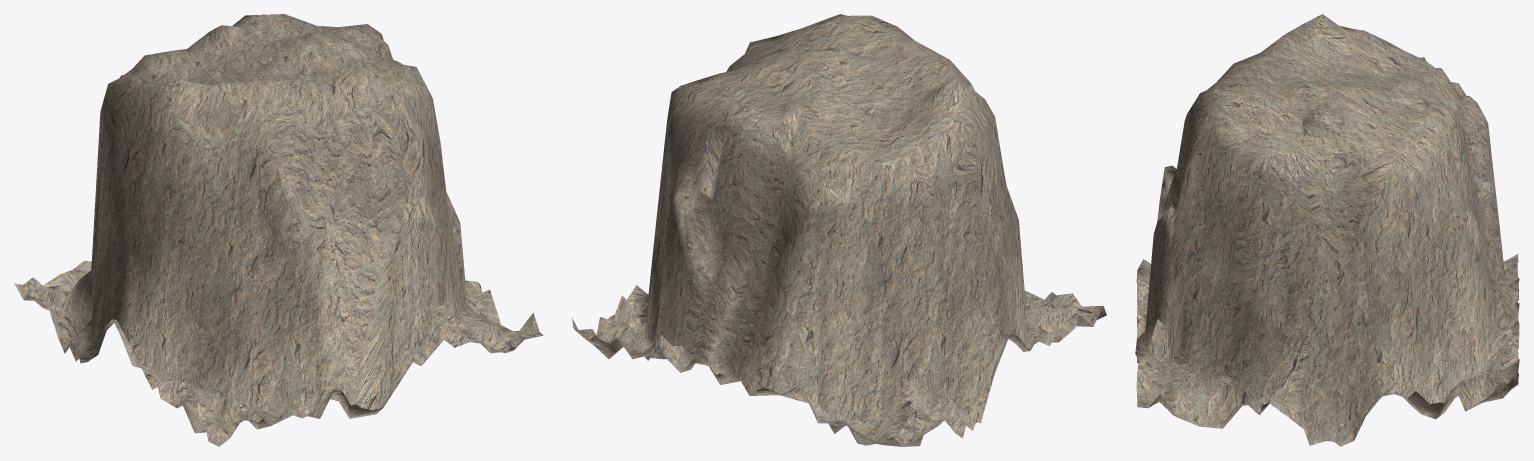
The model's file is cliff.fbx.
The picture shows the model from 3 angles, left to right: view 1: azimuth 30°, elevation 25°; view 2: azimuth 150°, elevation 25°; view 3: azimuth 270°, elevation 25°; orthographic projection. The views are drawn at different scales.
Visible parts, largest first — view 1: Plane; view 2: Plane; view 3: Plane.
Boxes of the visible parts, x1,y1,x2,y2 form: Plane: (14, 14, 543, 446); Plane: (572, 14, 1106, 446); Plane: (1135, 14, 1519, 446).
Bounding box in the file's own units: 3.46 × 4.03 × 4.04.
